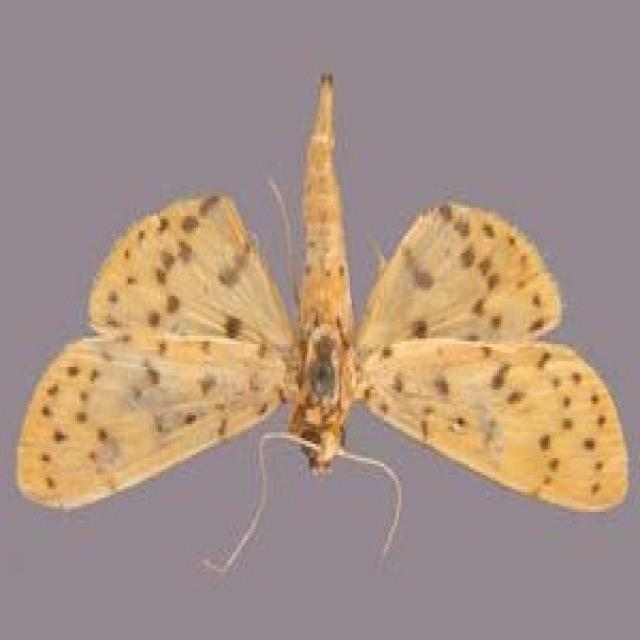peach borer: (18, 74, 633, 589)
